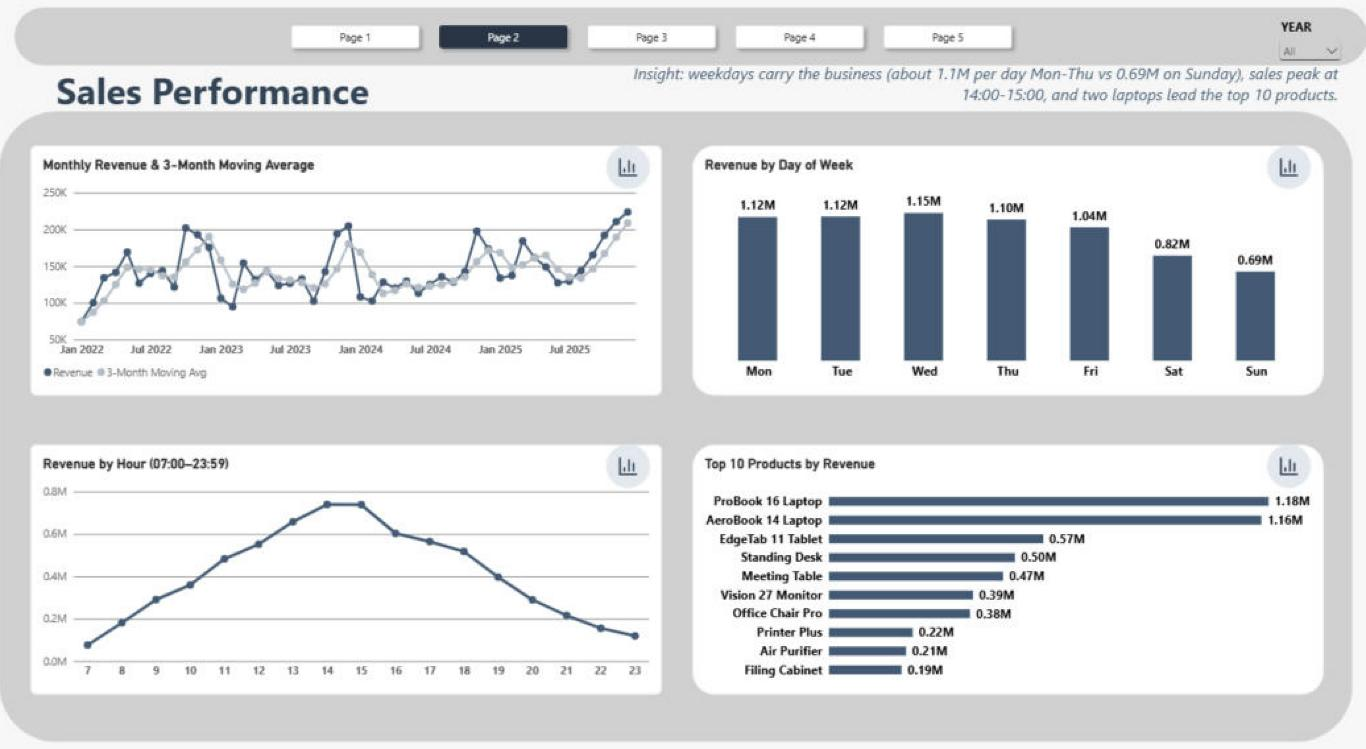

Layout of this report page (visuals, bound fields, positions):
{"tool":"powerbi","page":{"name":"Page 2","canvas":[1920,1080],"ordinal":1},"visuals":[{"type":"shape","box":[59.8,180.9,1800.4,838.9],"z":0},{"type":"lineChart","title":"Monthly Revenue & 3-Month Moving Average","fields":{"Category":["Calendar.Month Start"],"Y":["vw_valid_sales.Revenue","vw_valid_sales.Revenue MA 3M"]},"box":[100.7,226.1,839.6,333.4],"z":1000},{"type":"shape","box":[80.2,42.3,1800.4,77.3],"z":2000},{"type":"textbox","title":"Sales Performance","box":[135.7,119.6,592.3,61.3],"z":3000},{"type":"pageNavigator","box":[439.1,56.9,980.4,49.6],"z":4000},{"type":"slicer","fields":{"Values":["vw_valid_sales.Order_Year"]},"box":[1756.6,56.9,93.1,63.2],"z":5000},{"type":"image","box":[1729.6,355.7,90,57.6],"z":6000},{"type":"image","box":[1729.6,701,90,57.6],"z":7000},{"type":"columnChart","title":"Revenue by Day of Week","fields":{"Category":["vw_valid_sales.Weekday Label"],"Y":["vw_valid_sales.Revenue"]},"box":[981.2,226.1,839.6,333.4],"z":8000,"group":"g1"},{"type":"image","box":[850.1,701,90,57.6],"z":8000},{"type":"group","id":"g1","title":"Group 1","box":[100.7,226.1,1720.1,730.9],"z":9000},{"type":"lineChart","title":"Revenue by Hour (07:00–23:59)","fields":{"Category":["vw_valid_sales.Hour"],"Y":["vw_valid_sales.Revenue"]},"box":[100.7,623.7,839.6,333.4],"z":9000,"group":"g1"},{"type":"image","box":[850.6,226.1,90,57.6],"z":10000},{"type":"barChart","title":"Top 10 Products by Revenue","fields":{"Category":["vw_valid_sales.Product_Name"],"Y":["vw_valid_sales.Revenue"]},"box":[981.2,623.7,839.6,333.4],"z":10000,"group":"g1"},{"type":"image","box":[1730.3,226.1,90,57.6],"z":11000},{"type":"image","box":[1730.3,624.4,90,57.6],"z":12000},{"type":"image","box":[850.6,624.4,90,57.6],"z":13000},{"type":"textbox","box":[840,116,1000,64],"z":14000}]}

Visuals, with their boxes in screenshot pixels (x1, y1, x2, y2), scaled from the page's 1920x1080 canvas onto the 1366x749 screenshot:
shape: (x1=43, y1=125, x2=1323, y2=707)
"Monthly Revenue & 3-Month Moving Average" lineChart: (x1=72, y1=157, x2=669, y2=388)
shape: (x1=57, y1=29, x2=1338, y2=83)
"Sales Performance" textbox: (x1=97, y1=83, x2=518, y2=125)
pageNavigator: (x1=312, y1=39, x2=1010, y2=74)
slicer - vw_valid_sales.Order_Year: (x1=1250, y1=39, x2=1316, y2=83)
image: (x1=1231, y1=247, x2=1295, y2=287)
image: (x1=1231, y1=486, x2=1295, y2=526)
"Revenue by Day of Week" columnChart: (x1=698, y1=157, x2=1295, y2=388)
image: (x1=605, y1=486, x2=669, y2=526)
"Group 1" group: (x1=72, y1=157, x2=1295, y2=664)
"Revenue by Hour (07:00–23:59)" lineChart: (x1=72, y1=433, x2=669, y2=664)
image: (x1=605, y1=157, x2=669, y2=197)
"Top 10 Products by Revenue" barChart: (x1=698, y1=433, x2=1295, y2=664)
image: (x1=1231, y1=157, x2=1295, y2=197)
image: (x1=1231, y1=433, x2=1295, y2=473)
image: (x1=605, y1=433, x2=669, y2=473)
textbox: (x1=598, y1=80, x2=1309, y2=125)
